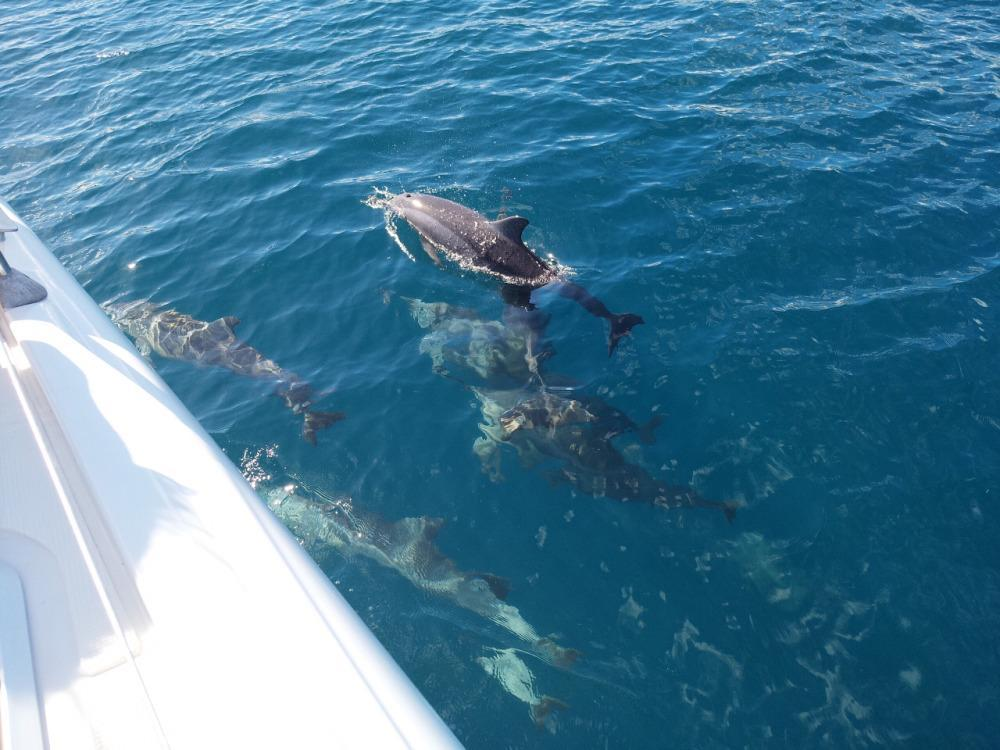fish: (371, 174, 647, 333), (103, 295, 348, 432)
